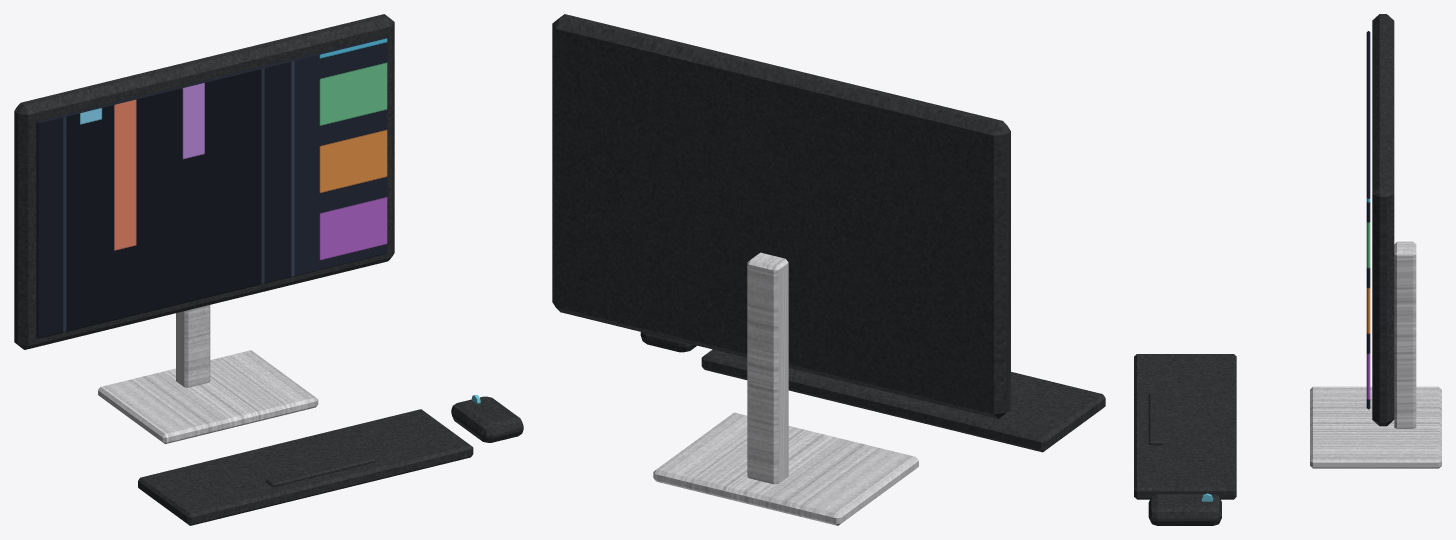
File: 03_Computadora_Monitor.obj
3 renders of one model, left to right at view 1: azimuth 30°, elevation 25°; view 2: azimuth 150°, elevation 25°; view 3: azimuth 270°, elevation 25°, orthographic. The views are drawn at different scales.
Visible parts, largest first — view 1: 03_Computadora_Monitor; view 2: 03_Computadora_Monitor; view 3: 03_Computadora_Monitor.
Boxes of the visible parts, x1,y1,x2,y2 form: 03_Computadora_Monitor: (14, 14, 523, 525); 03_Computadora_Monitor: (552, 14, 1105, 525); 03_Computadora_Monitor: (1134, 14, 1441, 525).
Size of the model in its own units: 0.6025 by 0.5 by 0.42.
